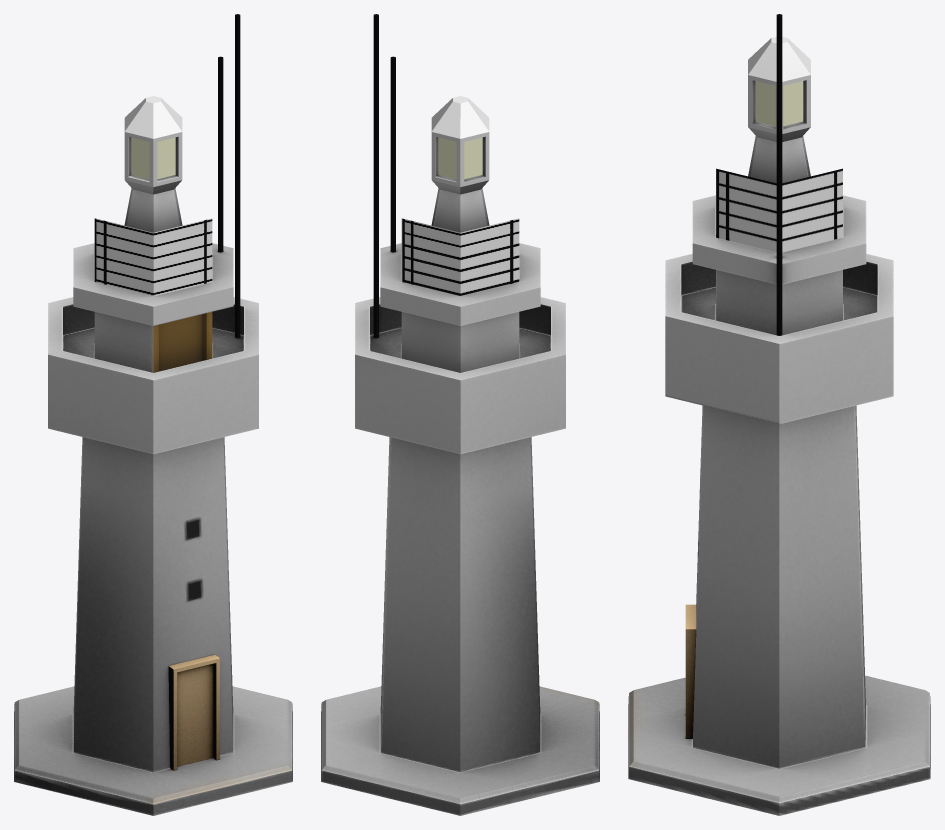
File: faro.glb
3 renders of one model, left to right at view 1: azimuth 30°, elevation 25°; view 2: azimuth 150°, elevation 25°; view 3: azimuth 270°, elevation 25°, orthographic. The views are drawn at different scales.
Bounding box in the file's own units: 15.11 × 36.88 × 13.09.
3 materials, 2 textured.
